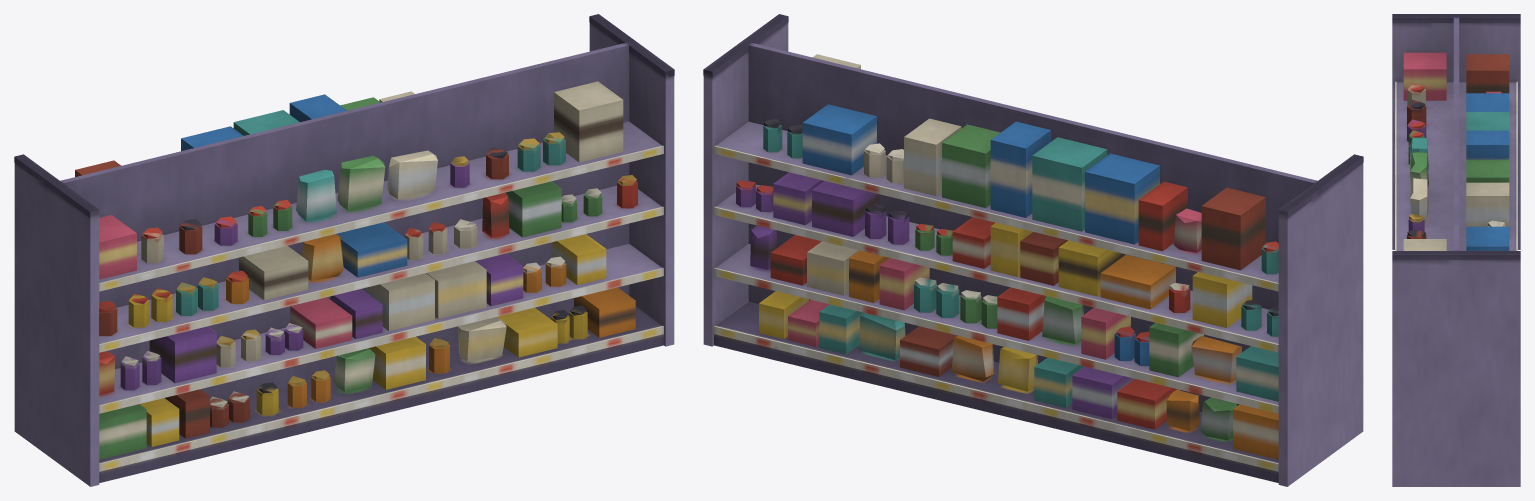
Rendered from Shelf_Aisle_4m.fbx.
The picture shows the model from 3 angles, left to right: view 1: azimuth 30°, elevation 25°; view 2: azimuth 150°, elevation 25°; view 3: azimuth 270°, elevation 25°; orthographic projection. The views are drawn at different scales.
Parts seen in each view (by area): view 1: Shelf_Aisle_4m; view 2: Shelf_Aisle_4m; view 3: Shelf_Aisle_4m.
Part boxes in pixels (<box>): Shelf_Aisle_4m: <box>14,14,674,486</box>; Shelf_Aisle_4m: <box>703,14,1363,486</box>; Shelf_Aisle_4m: <box>1392,14,1520,486</box>.
Size of the model in its own units: 4 by 1.8 by 0.9.
1 material, 1 textured.
